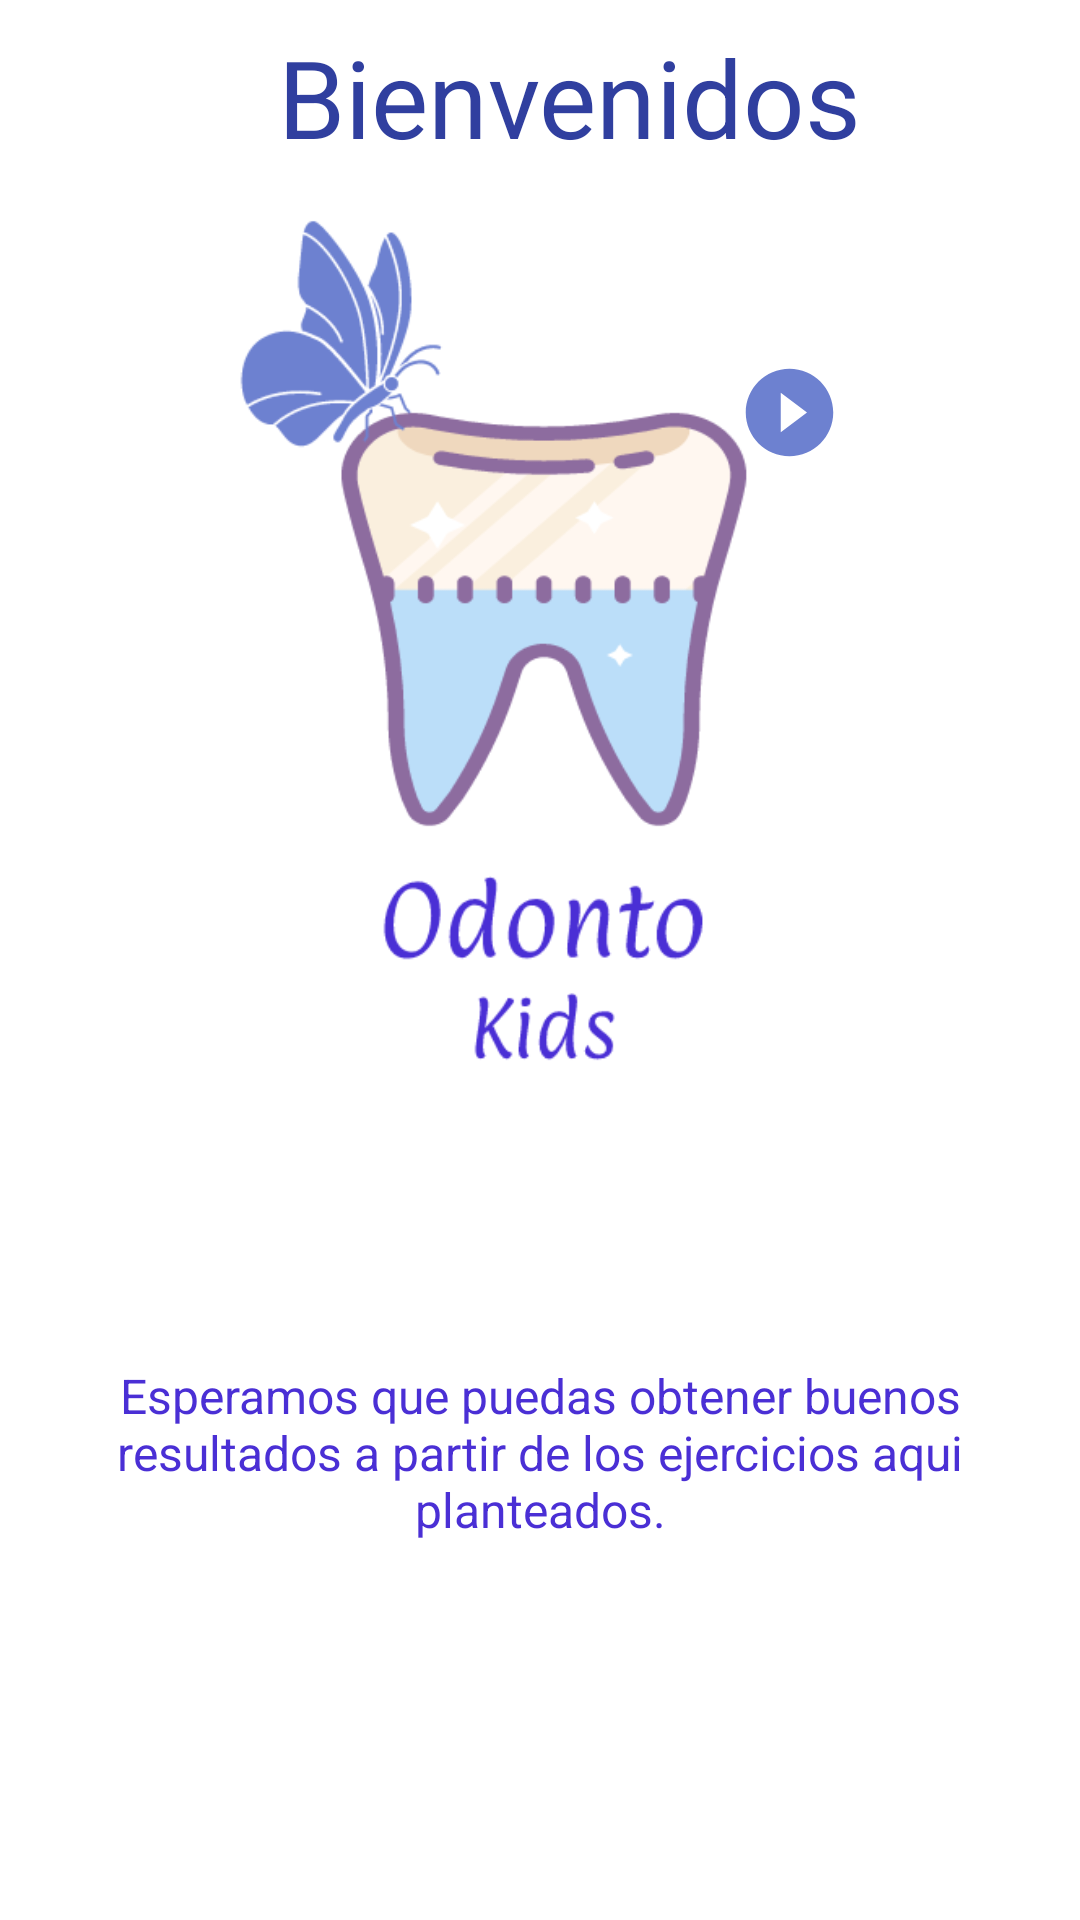

Where to tap for icons on this 1080*1920 app screen, as [x,y]:
play circle: [789,412]
